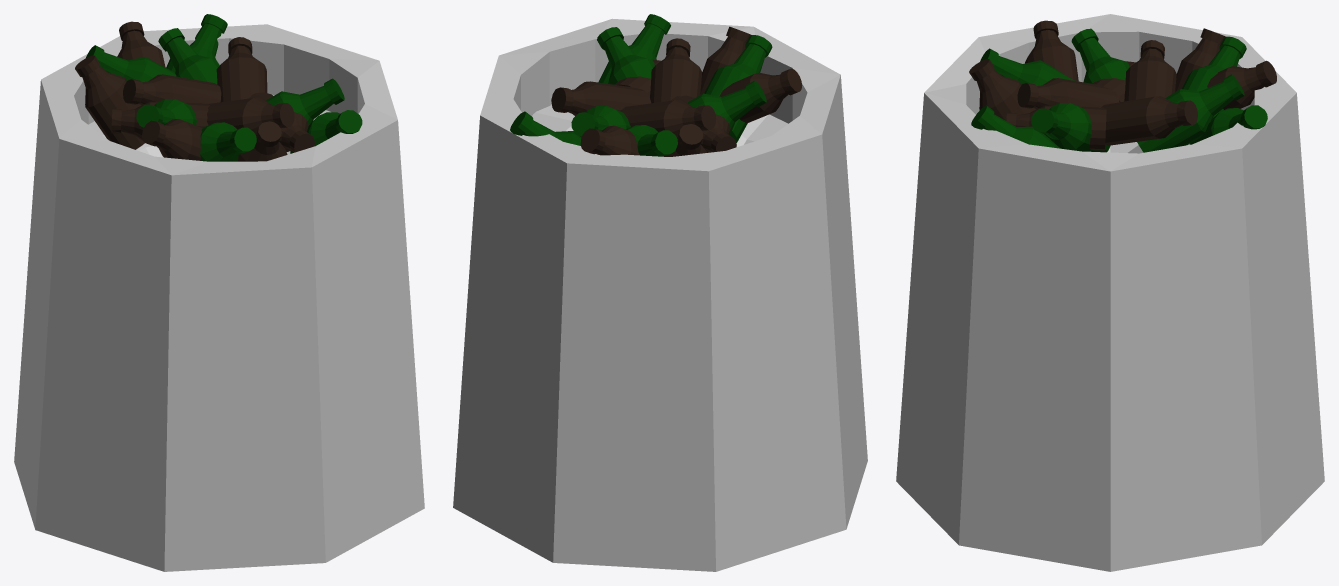
File: model_kosz_okragly_pelny.fbx
3 renders of one model, left to right at view 1: azimuth 30°, elevation 25°; view 2: azimuth 150°, elevation 25°; view 3: azimuth 270°, elevation 25°, orthographic.
Parts seen in each view (by area): view 1: kosz_okragly_pelny; view 2: kosz_okragly_pelny; view 3: kosz_okragly_pelny.
Part boxes in pixels (bbox=[...]): kosz_okragly_pelny: bbox=[14, 14, 424, 571]; kosz_okragly_pelny: bbox=[453, 14, 867, 571]; kosz_okragly_pelny: bbox=[896, 14, 1324, 571].
Bounding box in the file's own units: 58.01 × 61.81 × 58.01.
